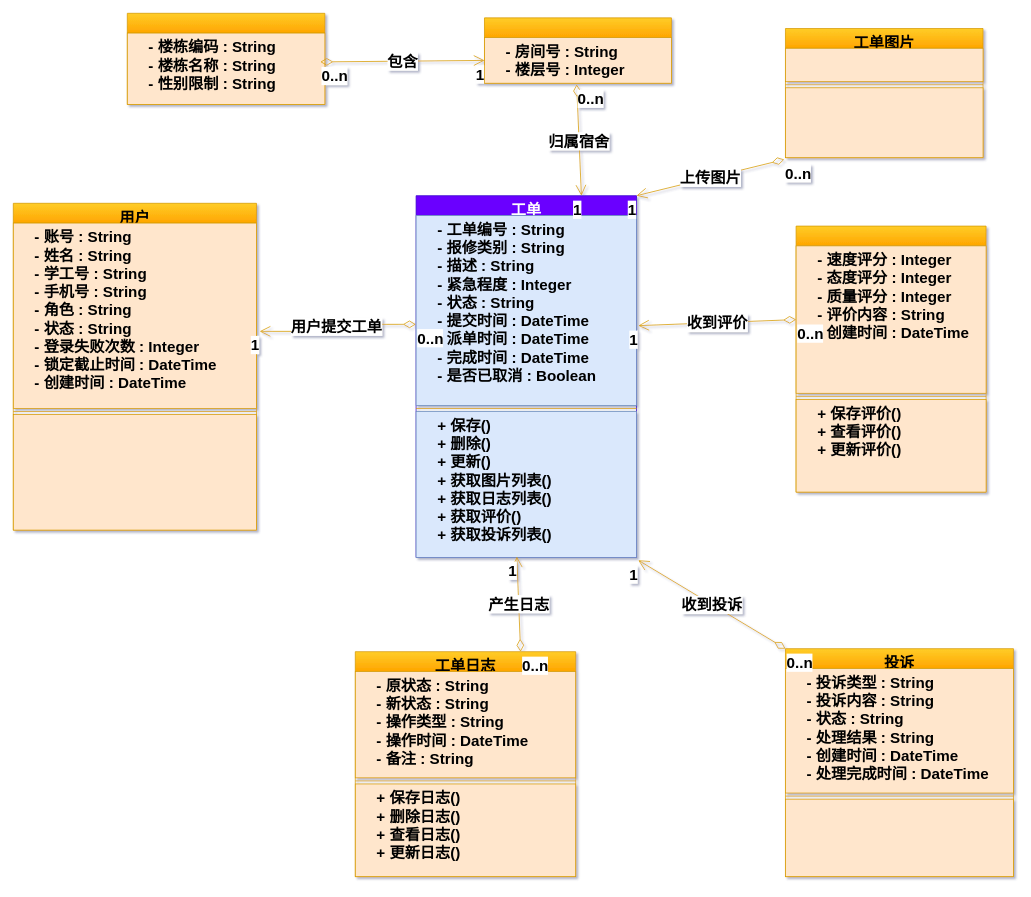
Image size: 1031x897. Some labels were removed from this diagram. Here are the shapes that lost their labels. From the top down, the box of each, then its label:
(127, 13, 325, 104): 宿舍楼栋
(484, 17, 671, 83): 宿舍房间
(785, 48, 983, 82): - 图片文件 : File
(785, 87, 983, 158): + 保存图片() + 删除图片()
(795, 225, 986, 492): 评价
(13, 414, 256, 530): + 查看用户信息() + 更改用户信息() + 禁用用户() + 启用用户() + 登陆()
(785, 798, 1013, 877): + 保存投诉() + 查看投诉() + 更新投诉状态()
